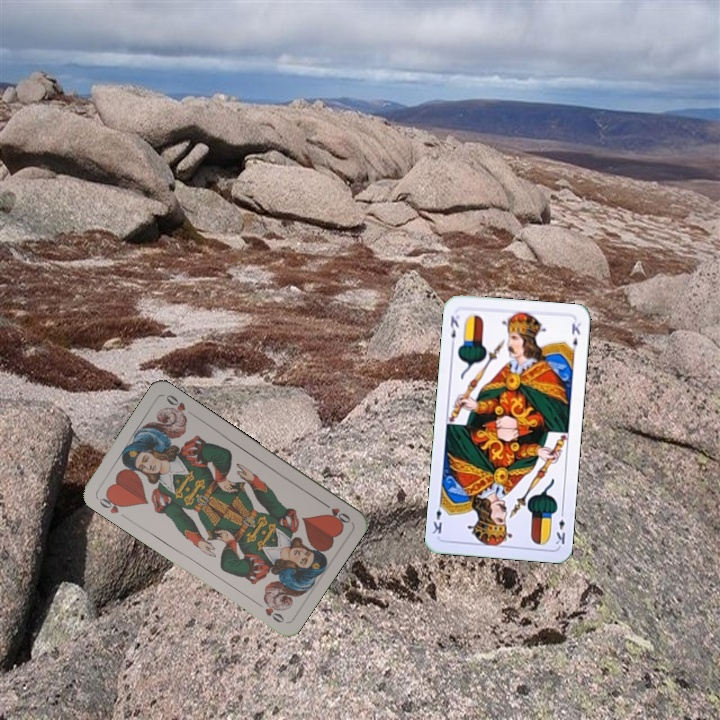EK: (552, 507, 568, 547), (446, 311, 461, 349)
HO: (317, 497, 353, 526), (93, 490, 128, 516)
